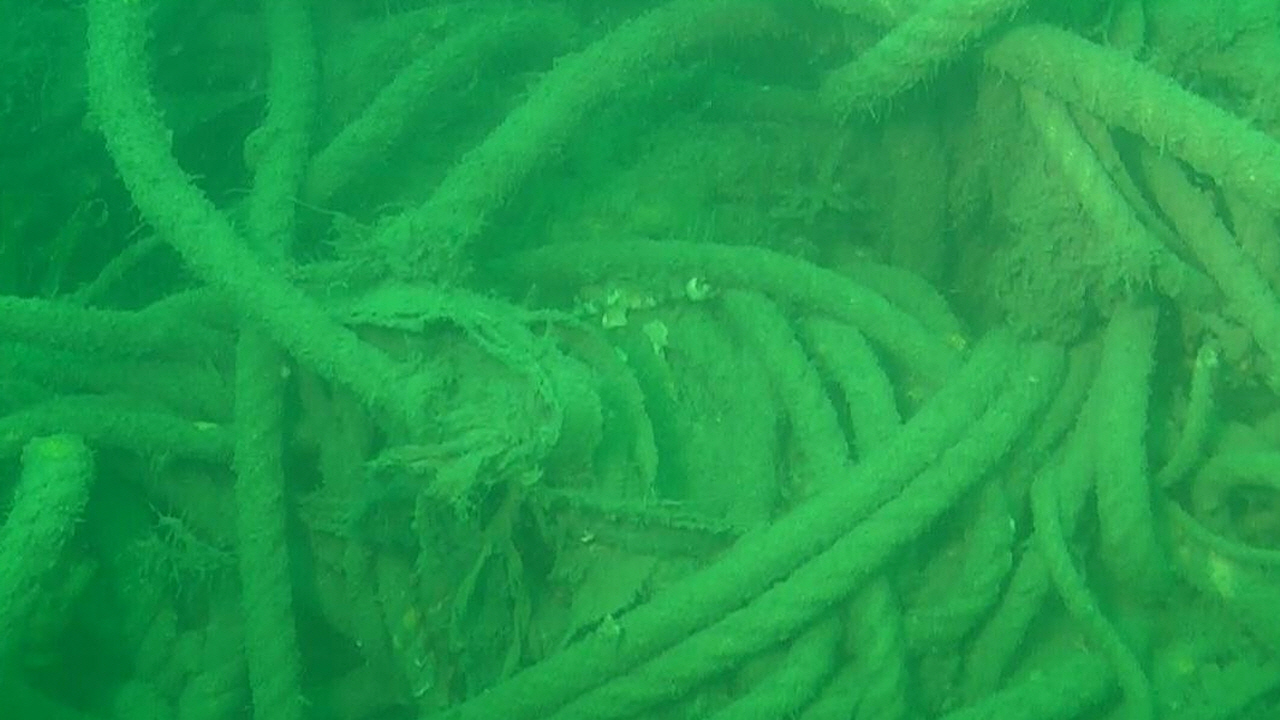bundle of ropes: (0, 0, 1179, 720)
